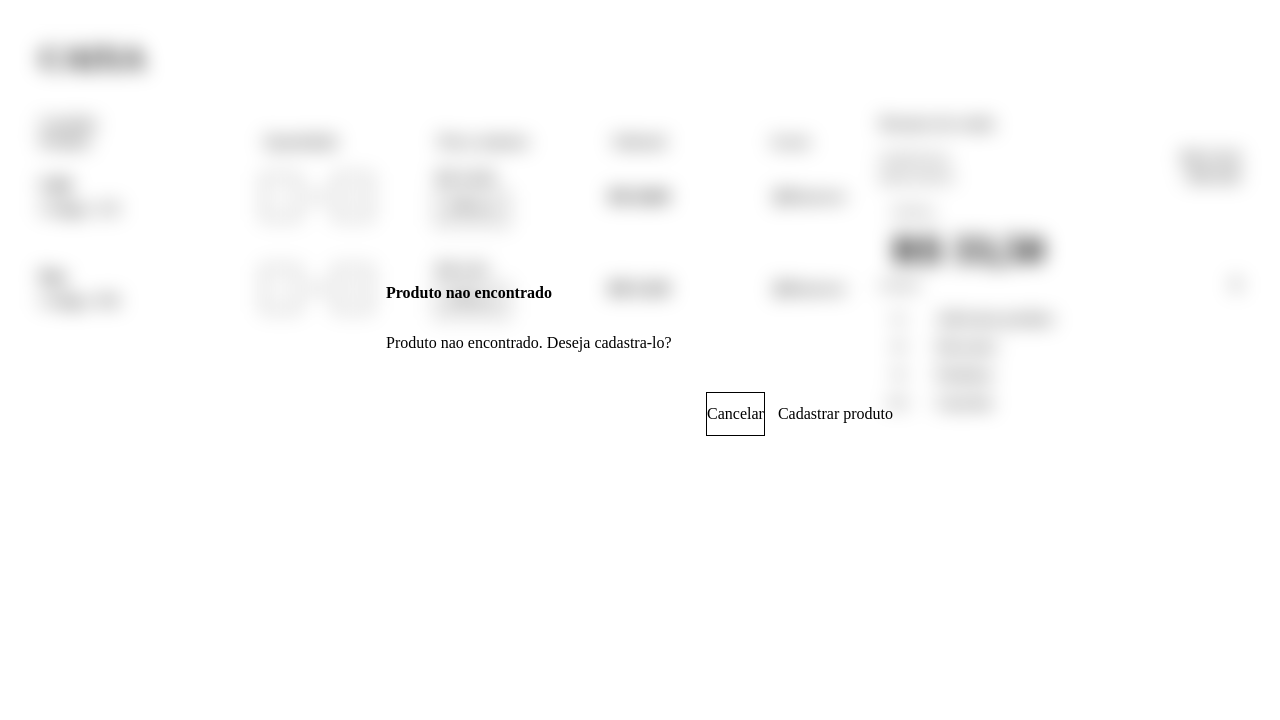
Test: CaixaPage checkout flow › cancela o cadastro sem limpar o carrinho nem abandonar o caixa
Click the button "Cadastrar produto" at [835, 414], box [777,392,894,436]
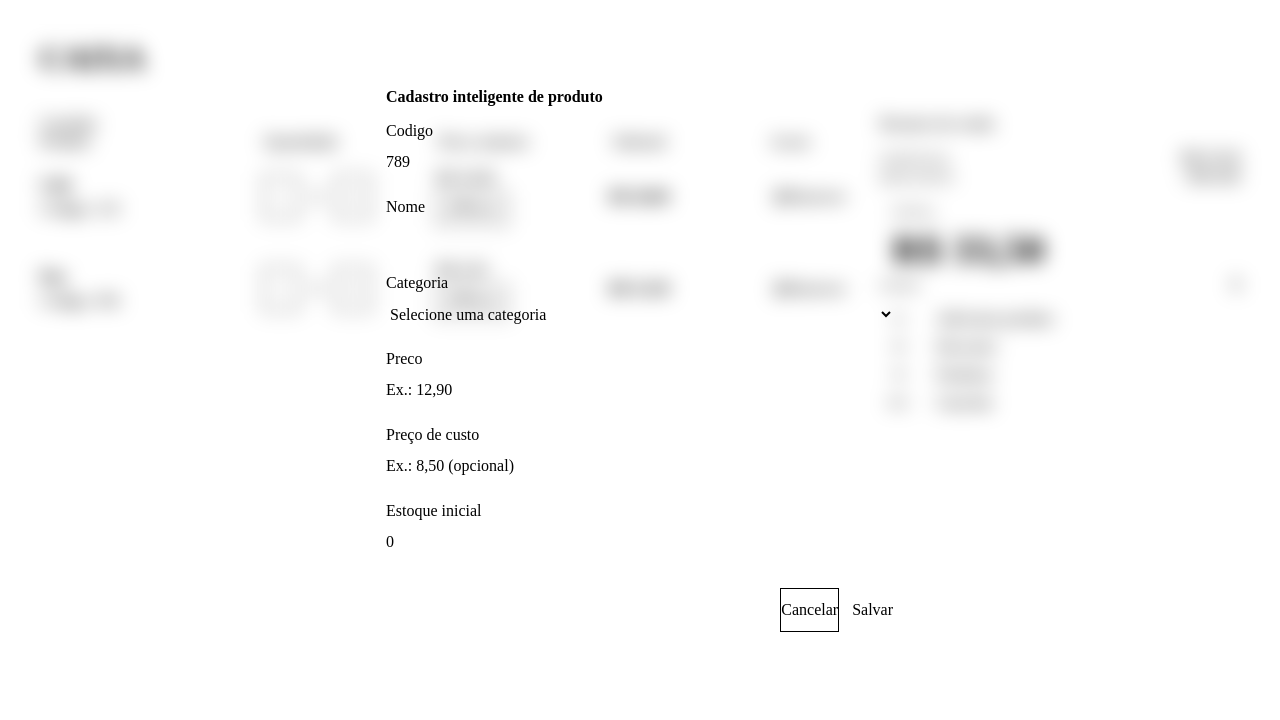
Click the button "Cancelar" at [810, 610], box [780,588,839,632]
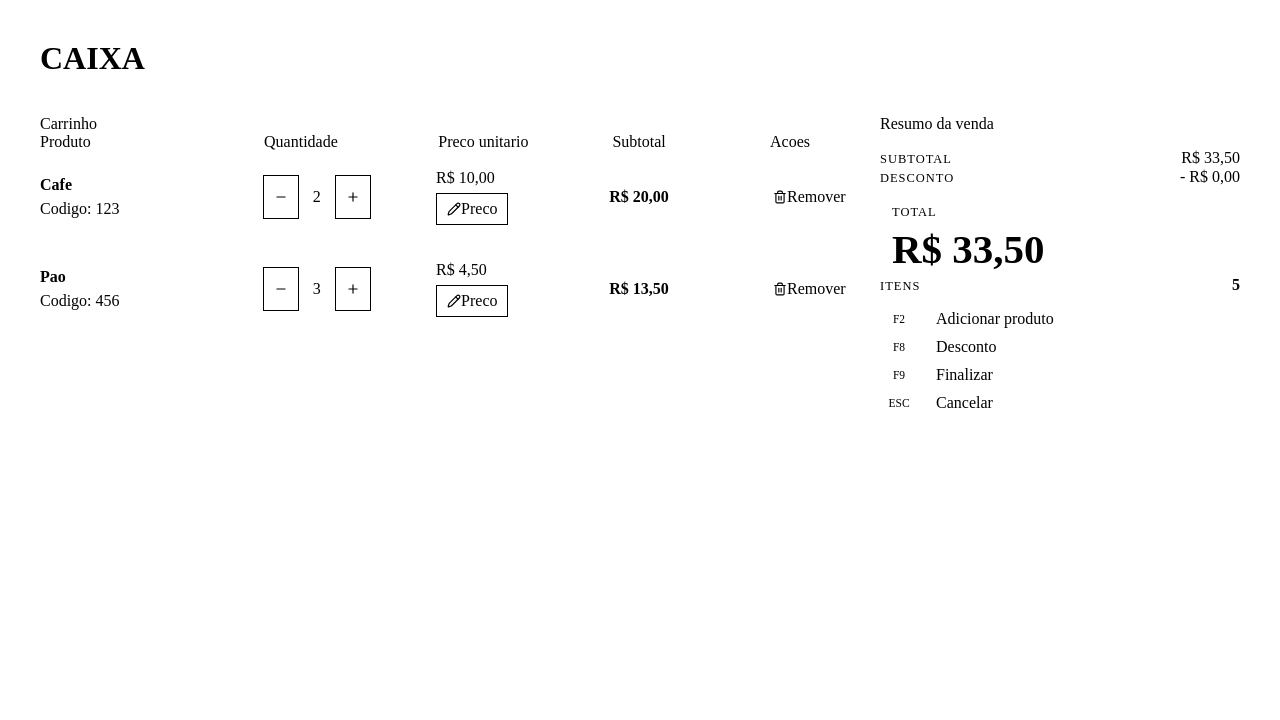
Expected: the text "CAIXA" is shown, [40,40,145,76]
Result: the form with id "smart-product-form" is gone
